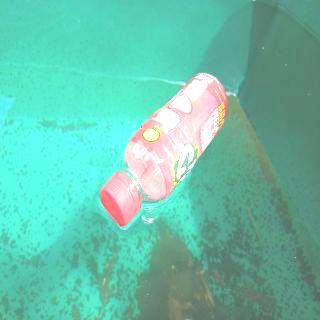bottle: (100, 70, 230, 228)
